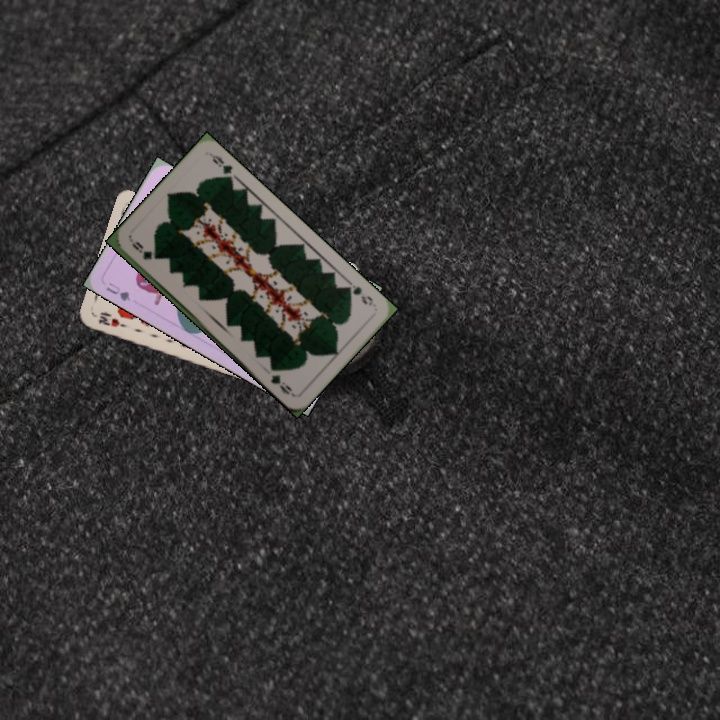G9: (341, 278, 376, 308), (127, 238, 155, 262)
GU: (102, 278, 133, 304)
H10: (94, 309, 129, 330)
